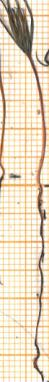flower: (0, 0, 37, 58)
root: (32, 184, 49, 382)
stem: (26, 58, 49, 180)
